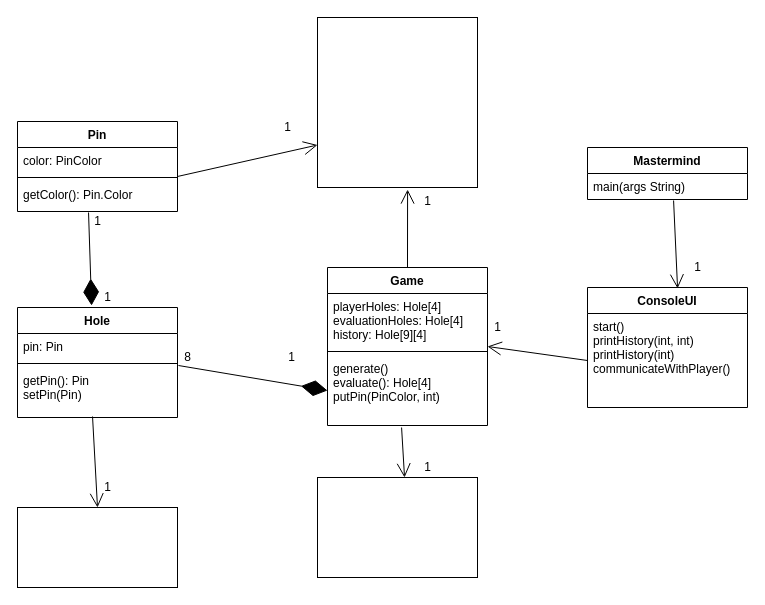
Image size: 765x605. Some labels were removed from this diagram. Each missing label, with the centre of its shape:
<<enumeration>> Game.State +PLAYING +FAILED +SOLVED: [397,527]
<<enumeration>> Hole.State +EMPTY +FILLED: [97,547]
<<enumeration>> PinColor +RED +BLUE +GREEN +YELLOW +PINK +BROWN +BLACK +WHITE: [397,102]
